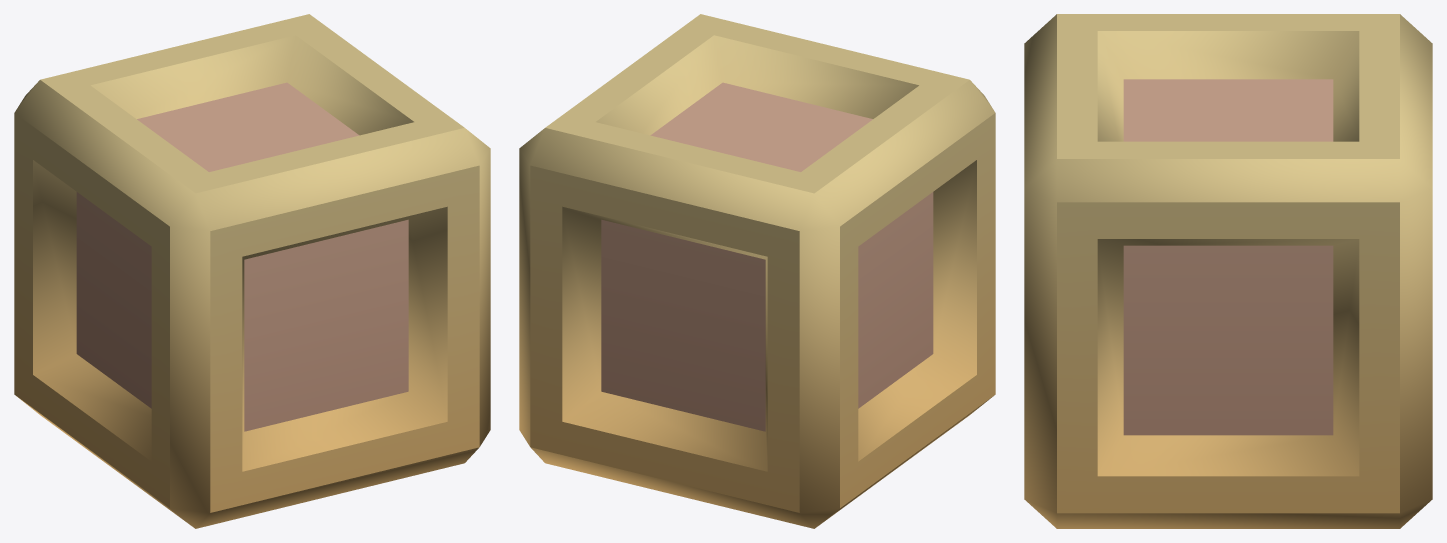
File: item_crate.glb
The picture shows the model from 3 angles, left to right: view 1: azimuth 30°, elevation 25°; view 2: azimuth 150°, elevation 25°; view 3: azimuth 270°, elevation 25°; orthographic projection. The views are drawn at different scales.
Parts seen in each view (by area): view 1: item_crate; view 2: item_crate; view 3: item_crate.
Part boxes in pixels (<box>): item_crate: <box>14,14,490,528</box>; item_crate: <box>519,14,995,528</box>; item_crate: <box>1024,14,1432,528</box>.
Size of the model in its own units: 20 by 20 by 20.
